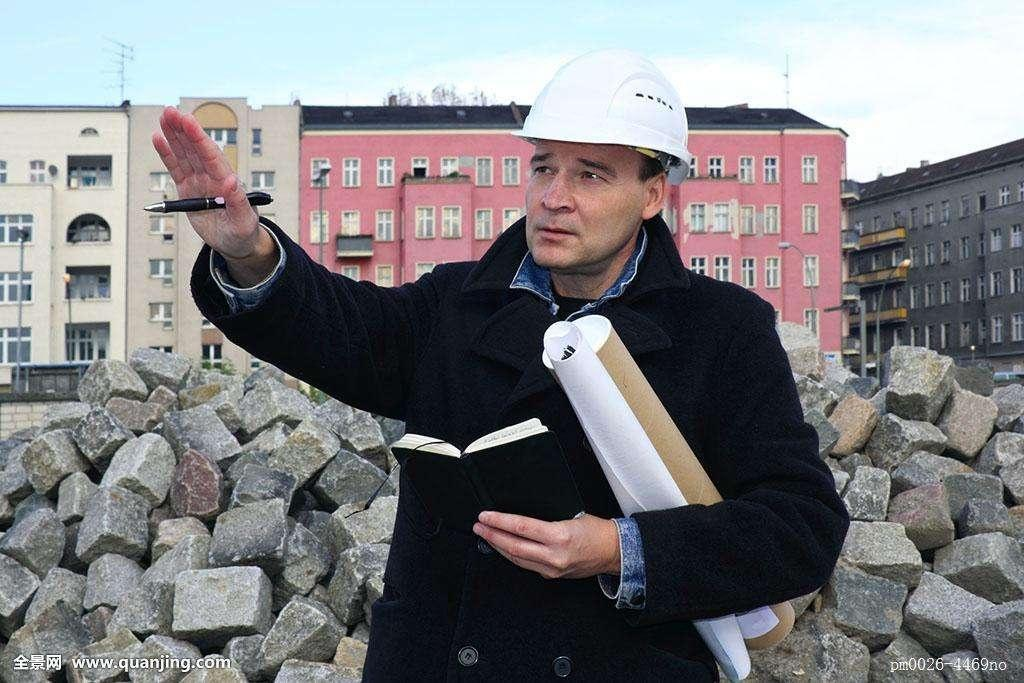helmet: (513, 49, 699, 274)
not_reflective: (362, 249, 850, 683)
